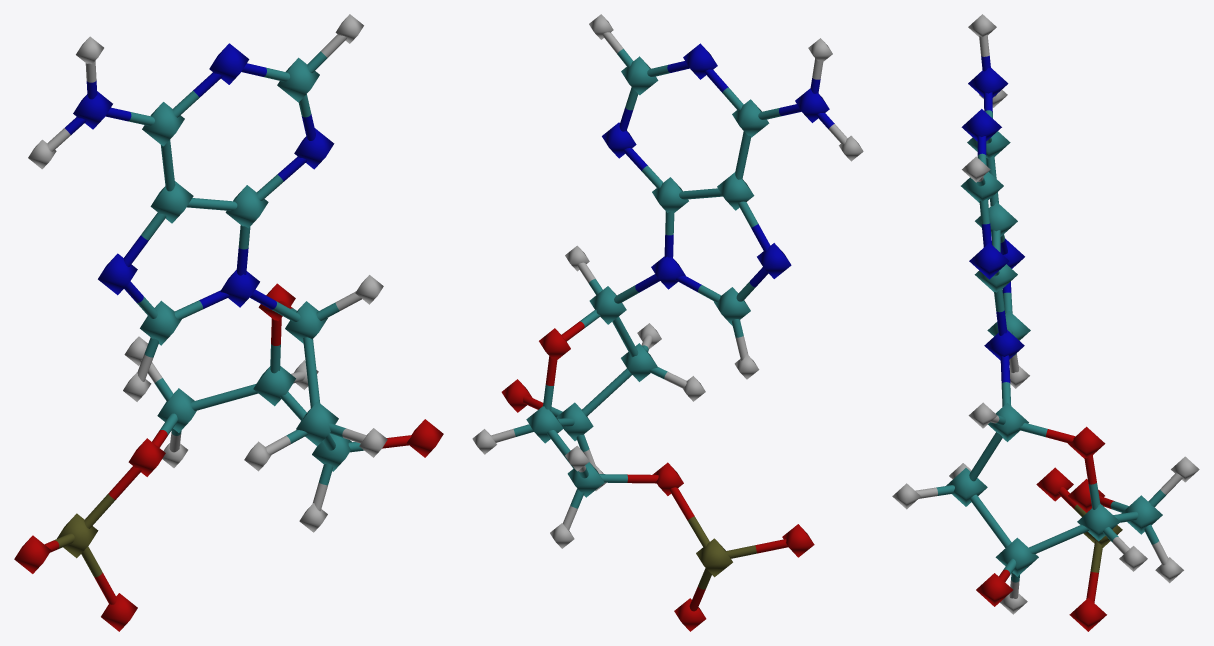
Rendered from adenine.obj.
The picture shows the model from 3 angles, left to right: view 1: azimuth 30°, elevation 25°; view 2: azimuth 150°, elevation 25°; view 3: azimuth 270°, elevation 25°; orthographic projection. The views are drawn at different scales.
Visible parts, largest first — view 1: vmd_mol2_rep0; view 2: vmd_mol2_rep0; view 3: vmd_mol2_rep0.
Part boxes in pixels (bbox=[...]): vmd_mol2_rep0: bbox=[14, 14, 443, 631]; vmd_mol2_rep0: bbox=[472, 14, 863, 631]; vmd_mol2_rep0: bbox=[892, 14, 1199, 631].
Size of the model in its own units: 1.04 by 1.58 by 0.7612.
